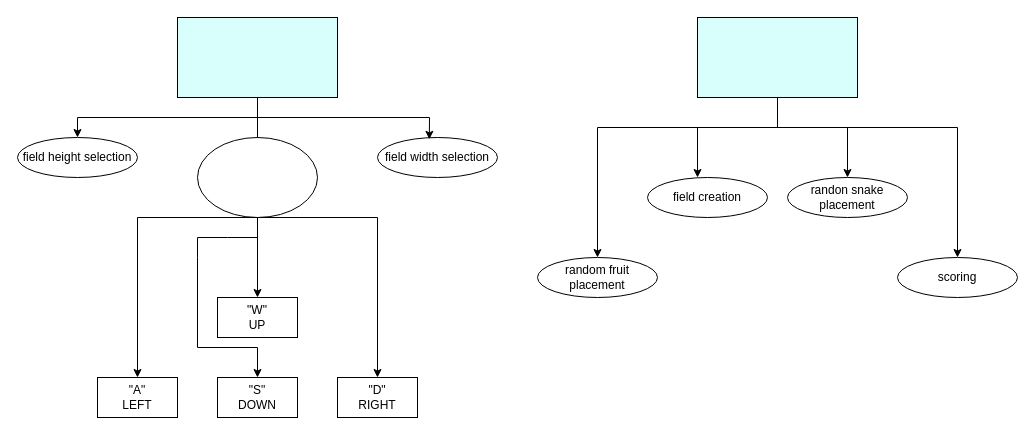
Some shapes in this 1035 by 435 pixel diagram are drawn without their labels. The shapes that lost their labels are listed below. From the top down, each one's centre as x and y in pixels, then its label:
At (x=257, y=57): "CHARACTER".
At (x=777, y=57): "COMPUTER".
At (x=257, y=177): "MOVE".
